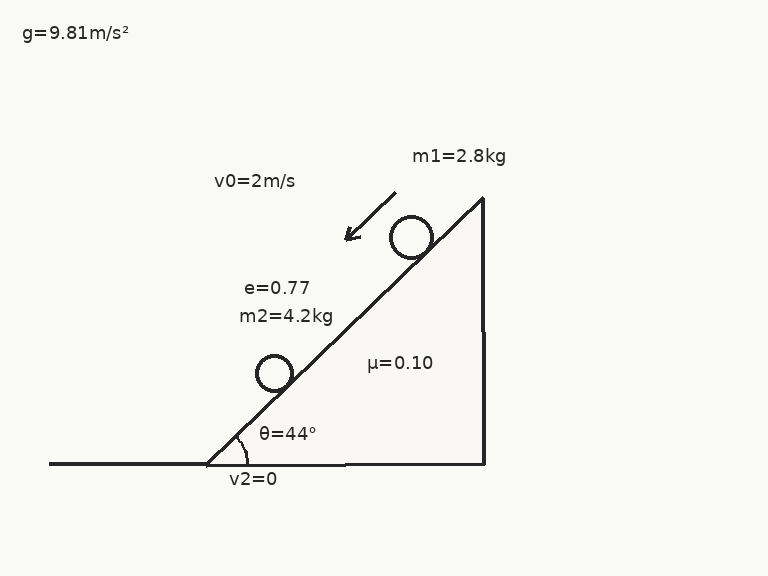ball: (387, 213, 435, 261), (253, 352, 295, 394)
ramp: (205, 195, 485, 466)
